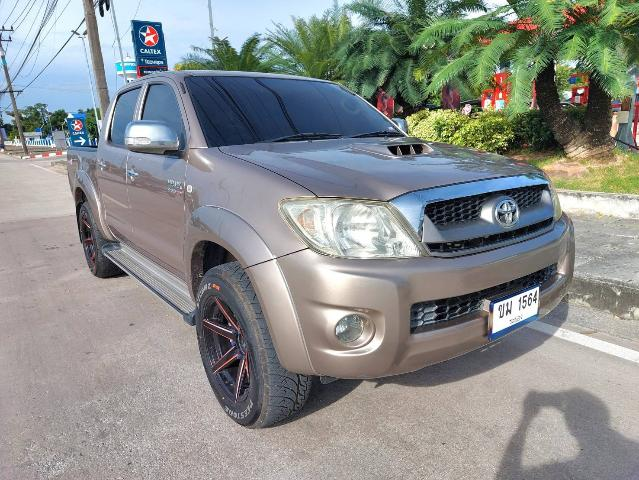pickup-truck: (63, 62, 578, 434)
